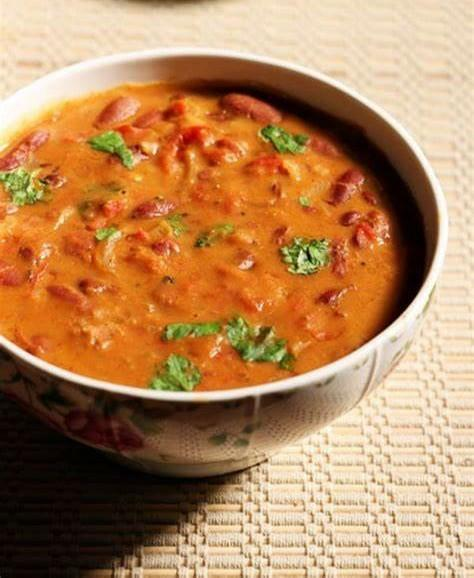RajmaCurry: (0, 71, 427, 406)
